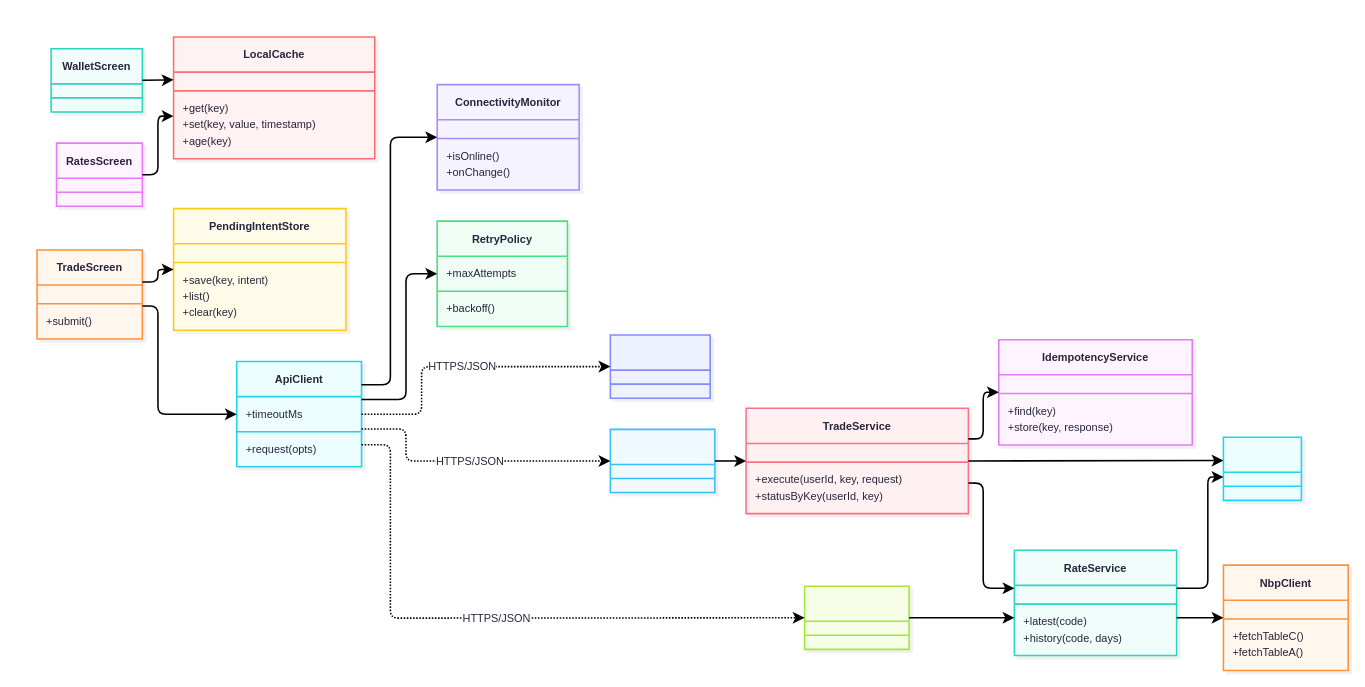
This 1365x687 diagram has some shape labels left out. The shapes that lost their labels are listed below. From the top down, each one's centre as x and y in pixels, then its label:
At point (661, 368): "AuthController".
At point (663, 462): "TradeController".
At point (1263, 470): "Repository".
At point (858, 619): "RatesController".
